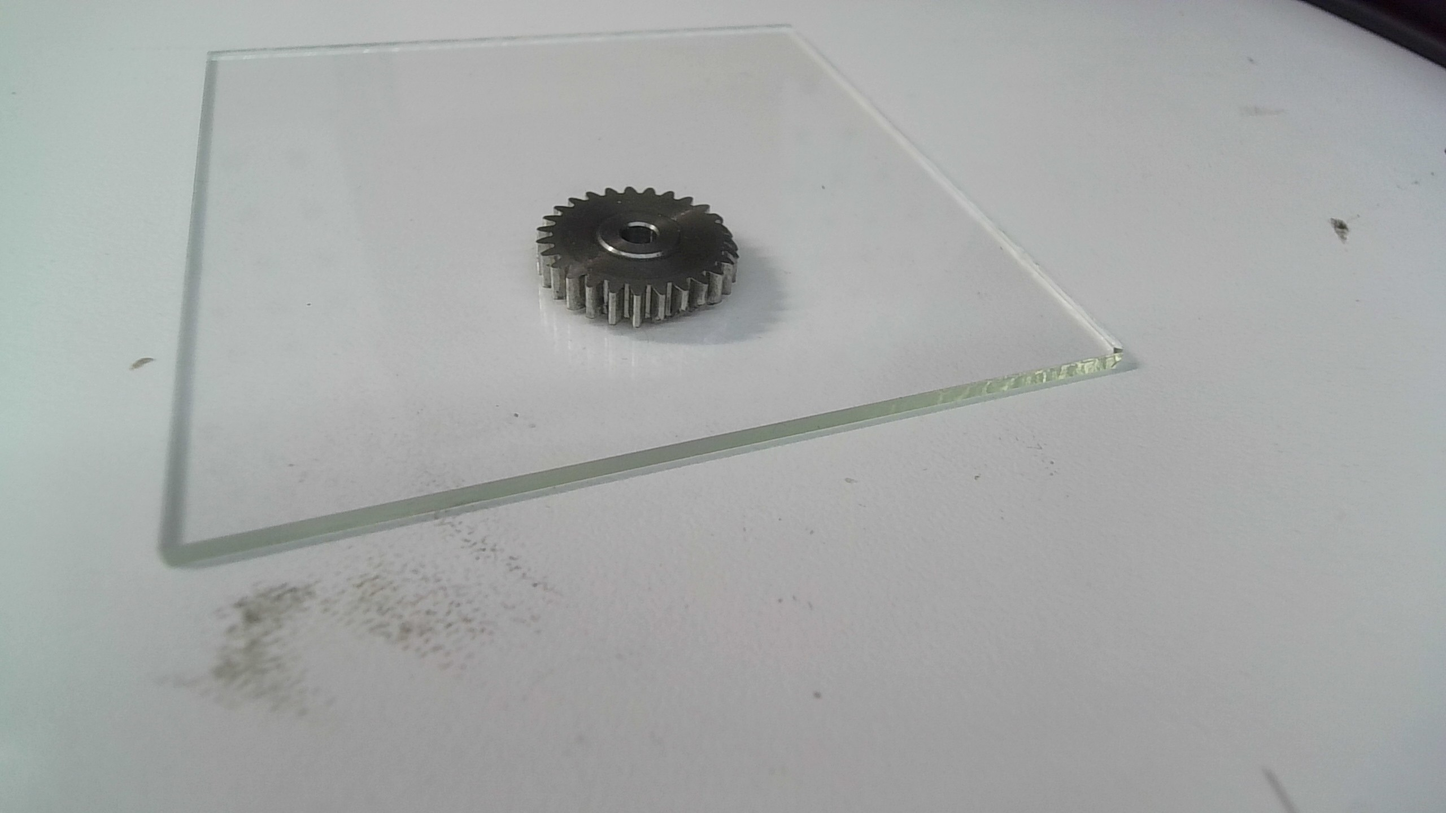gear: (532, 187, 742, 331)
